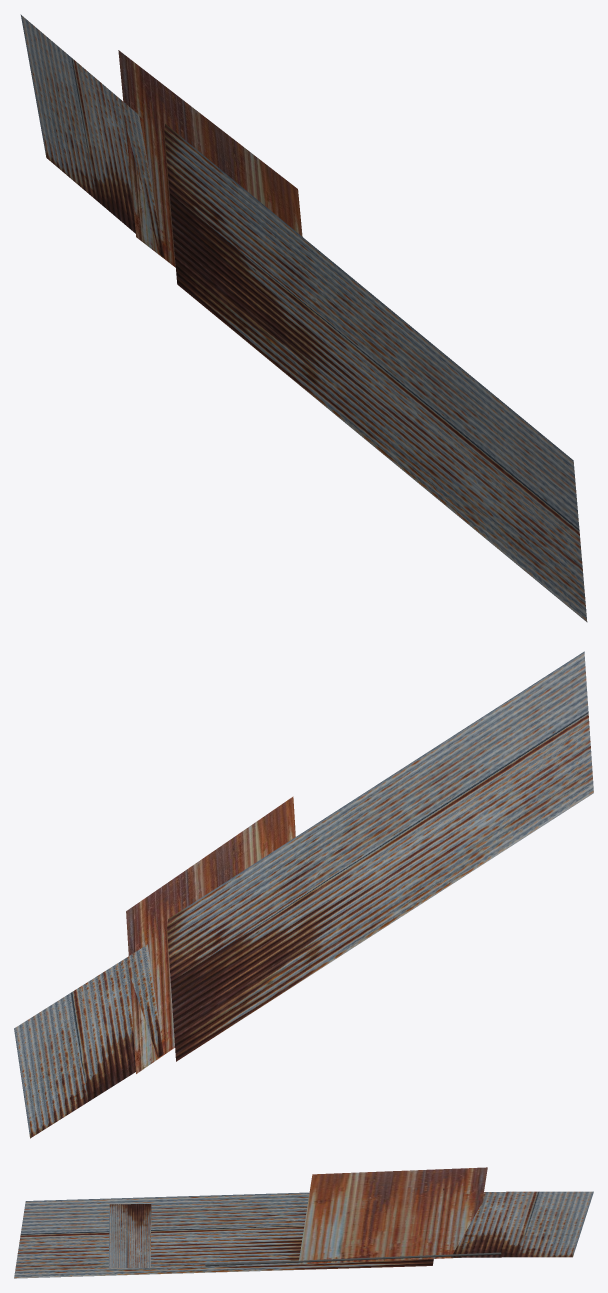
File: calaminas.glb
3 views of the same model, one above another, from view 1: azimuth 30°, elevation 25°; view 2: azimuth 150°, elevation 25°; view 3: azimuth 270°, elevation 25° (orthographic). The views are drawn at different scales.
Parts seen in each view (by area): view 1: Cylinder.029; view 2: Cylinder.029; view 3: Cylinder.029, Plane.004.
Part boxes in pixels (x1=…): Cylinder.029: x1=20, y1=14, x2=587, y2=622; Cylinder.029: x1=14, y1=651, x2=593, y2=1138; Cylinder.029: x1=14, y1=1167, x2=593, y2=1278; Plane.004: x1=109, y1=1204, x2=151, y2=1268.
Bounding box in the file's own units: 6.83 × 50.71 × 237.
Materials: 3 (2 with a texture image).
